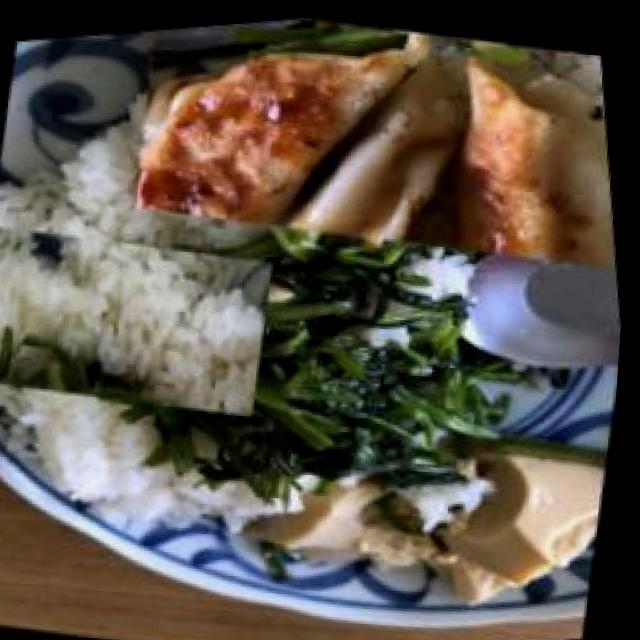fried_dumplings: (102, 5, 631, 329)
rice: (0, 143, 271, 486)
water_spinach: (111, 174, 539, 544)
